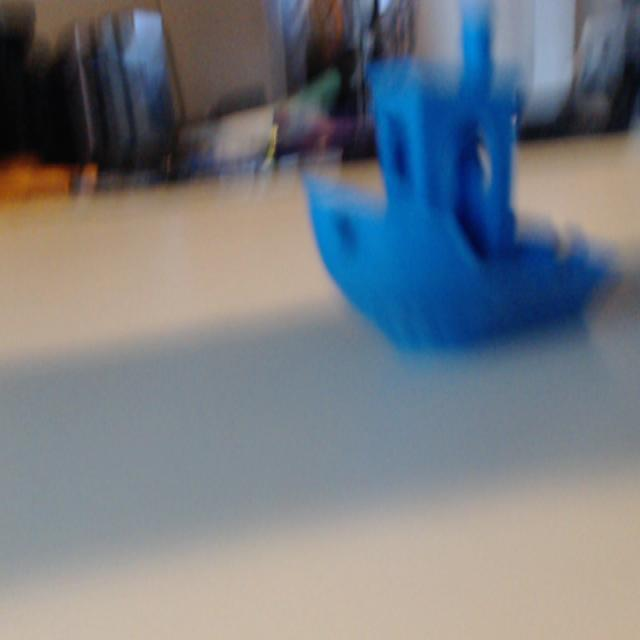benchy: (295, 1, 615, 358)
